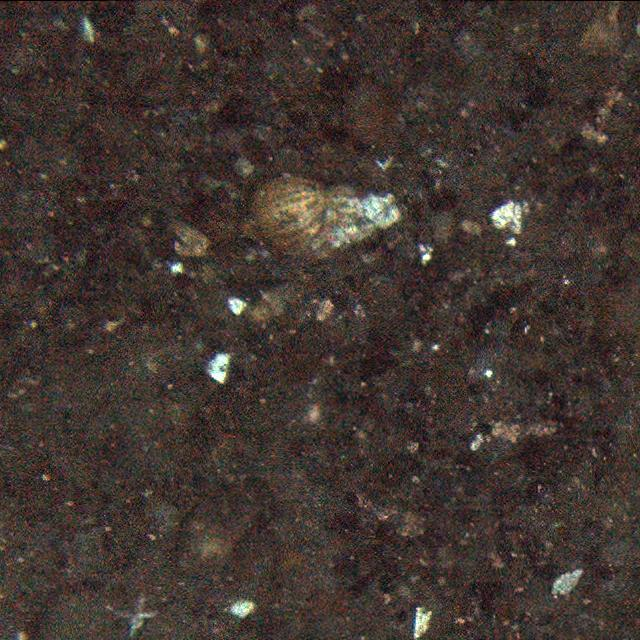whelk: (236, 167, 400, 264)
